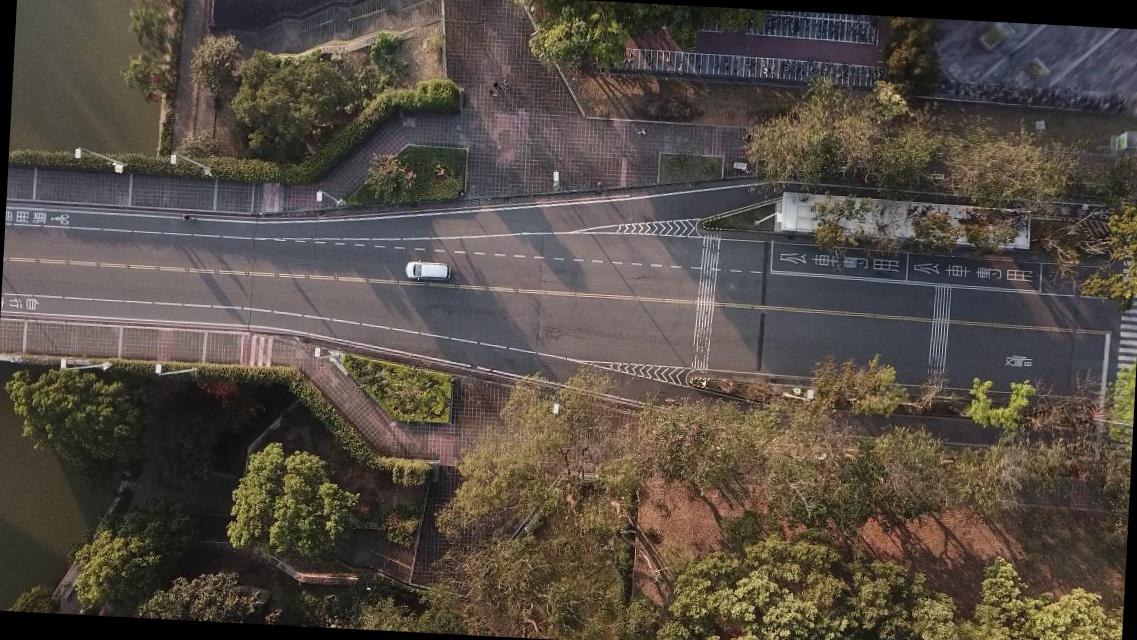vehicle: (404, 258, 450, 282)
